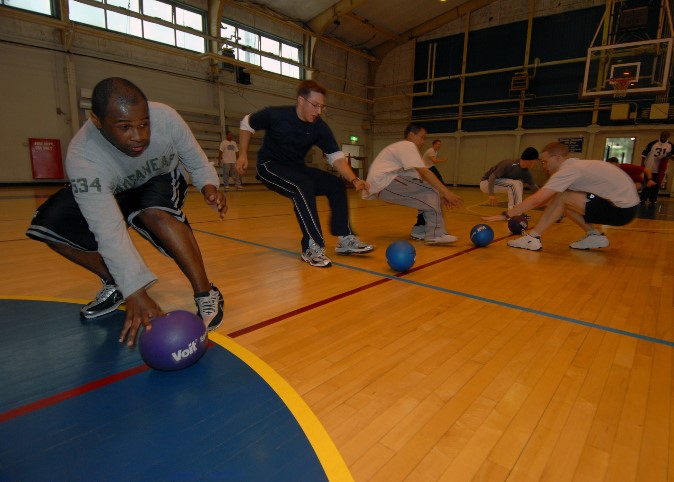blue ball: (385, 238, 417, 274), (467, 221, 496, 249)
